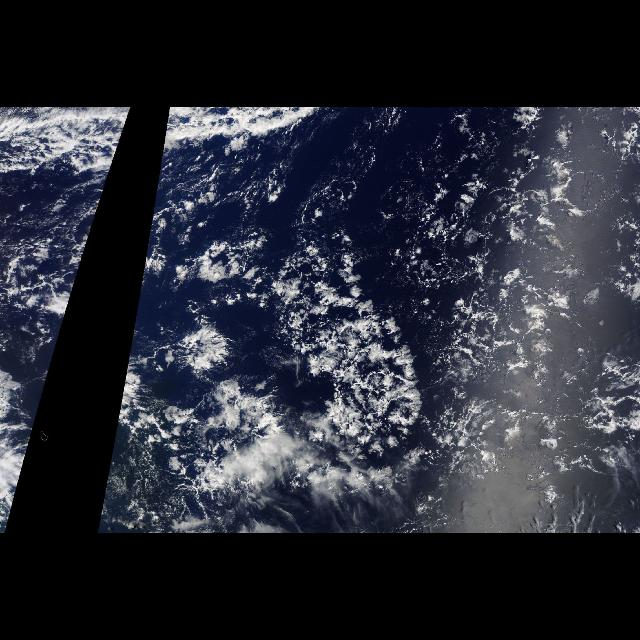Fish: (275, 244, 453, 471)
Flower: (435, 144, 601, 474)
Gravel: (185, 136, 592, 460)
